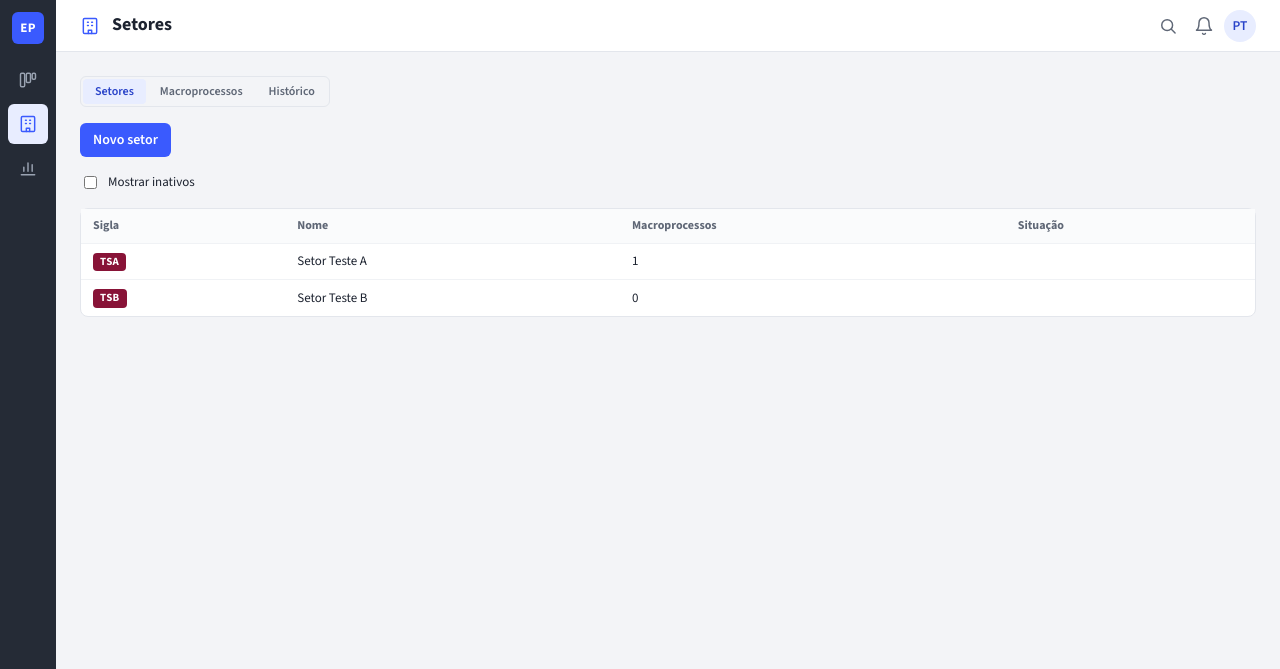
Scenario: uma cor já usada por outro setor pode ser escolhida
Click the button "TSA" at (110, 262), box [93,252,126,271]
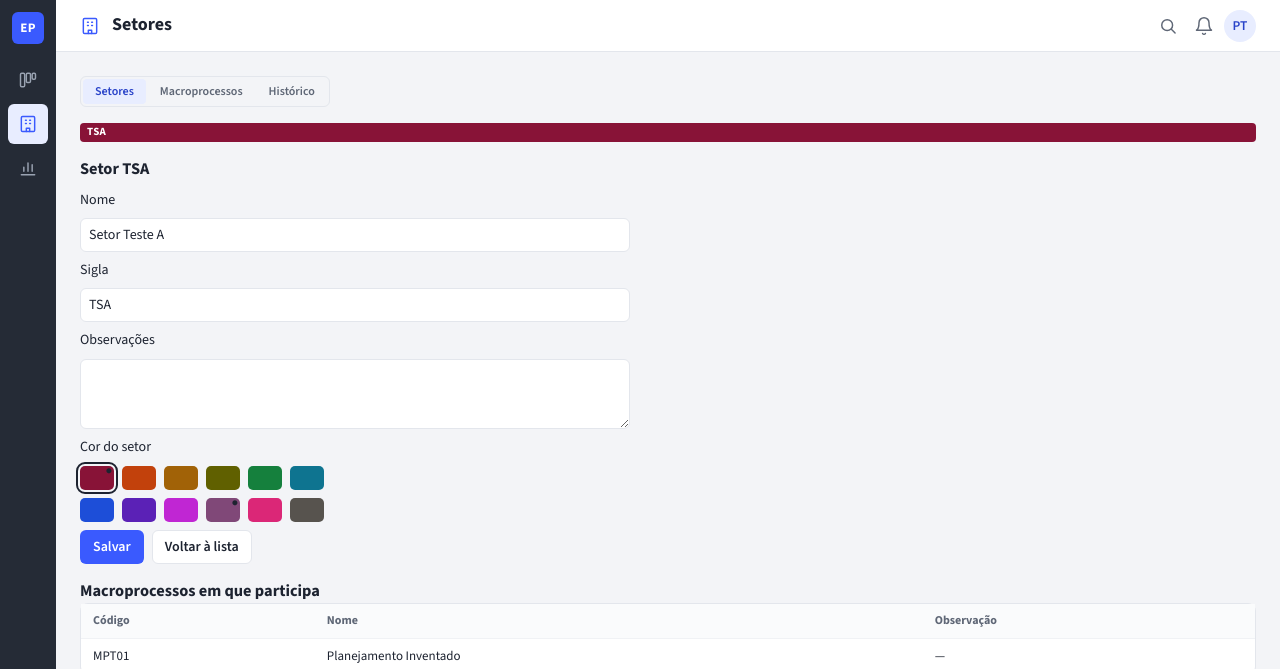
Click the radio button named "ameixa, em uso por TSX" at (223, 510), box [206,498,240,522]
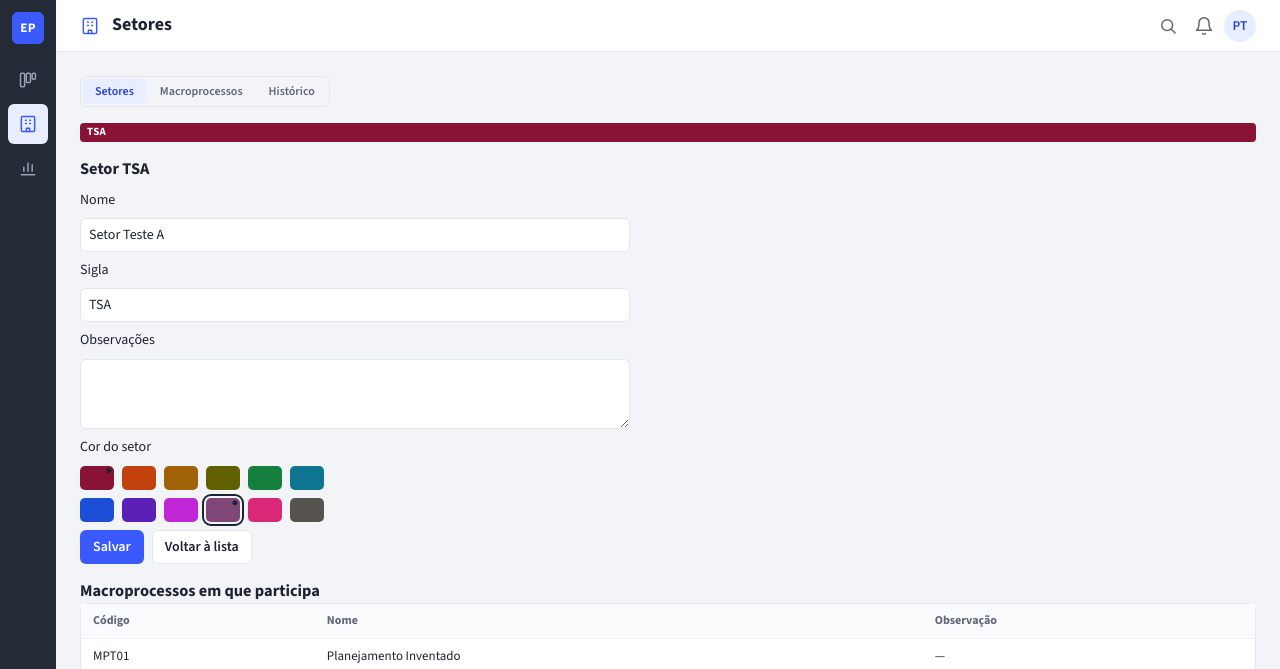
Click the button "Salvar" at (112, 547), box [80,530,144,564]
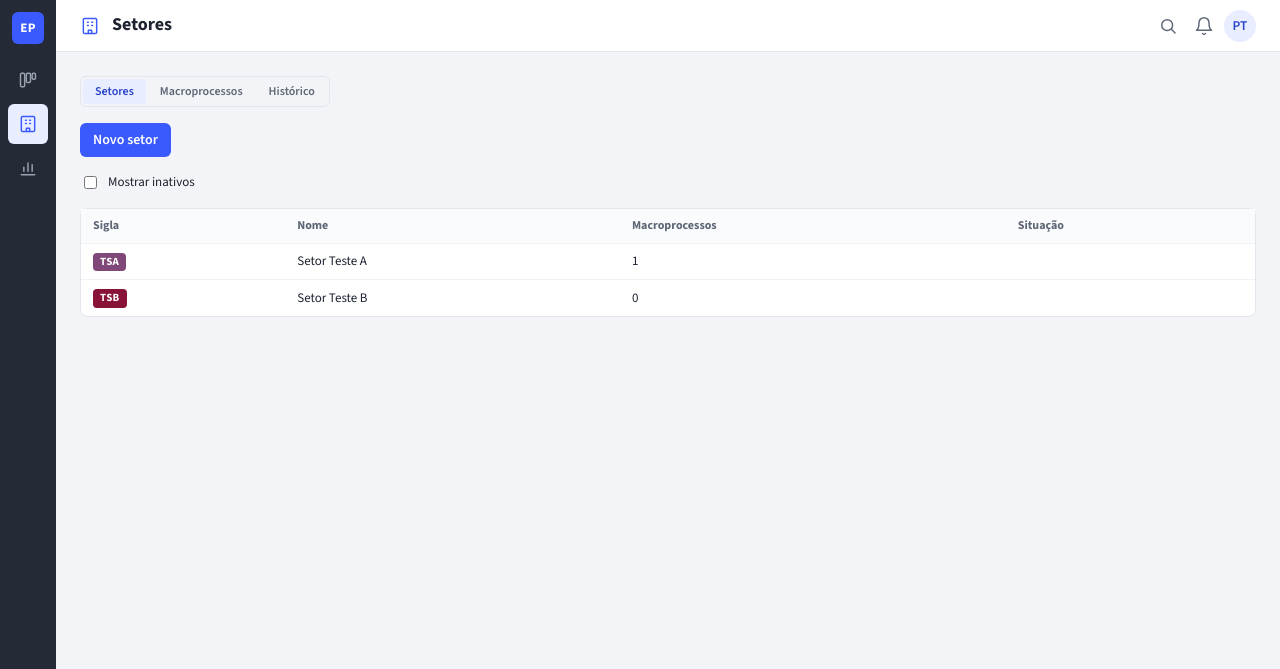
Now the button "TSB" is shown, box [93,288,126,308]
